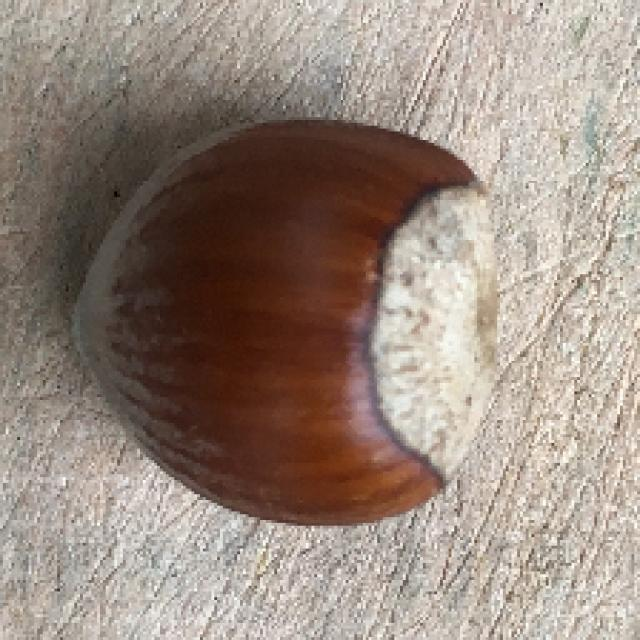qualityHazelnut: (57, 109, 511, 533)
